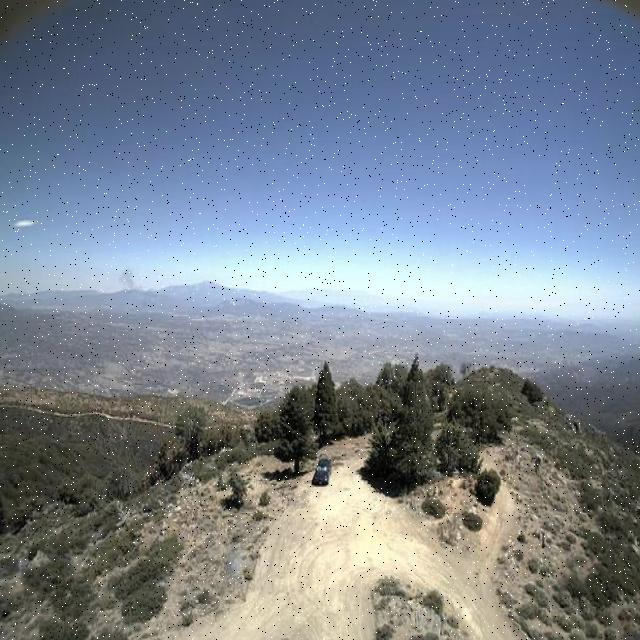smoke: (116, 262, 150, 293)
